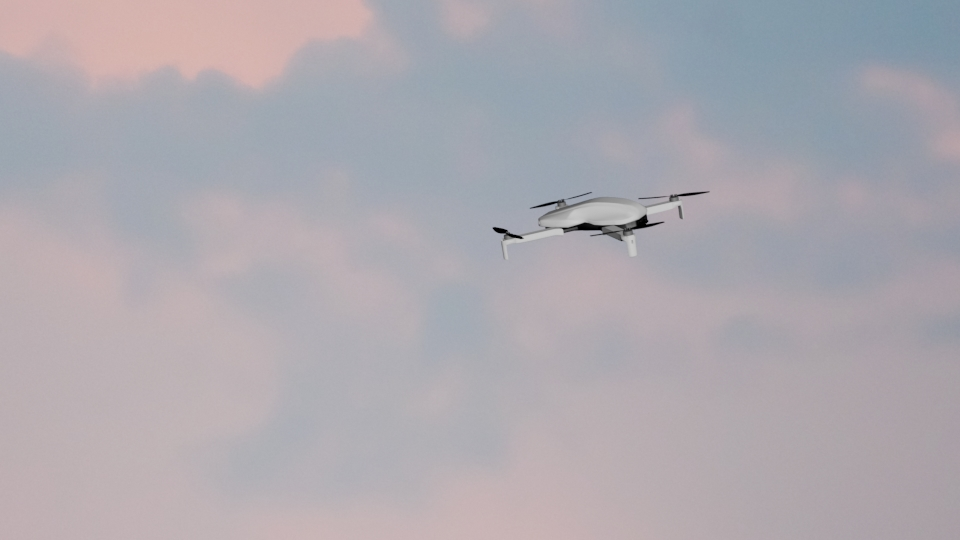drone: (493, 189, 709, 262)
